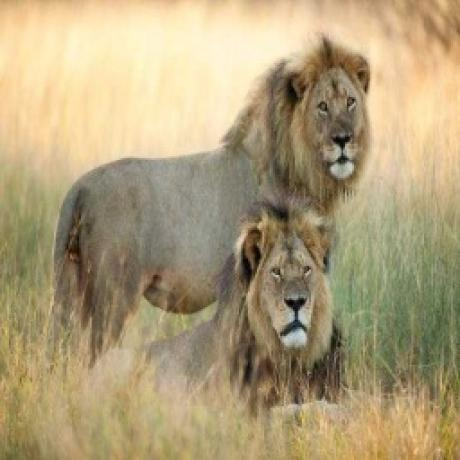Lion: (50, 35, 376, 352), (144, 208, 350, 420)
